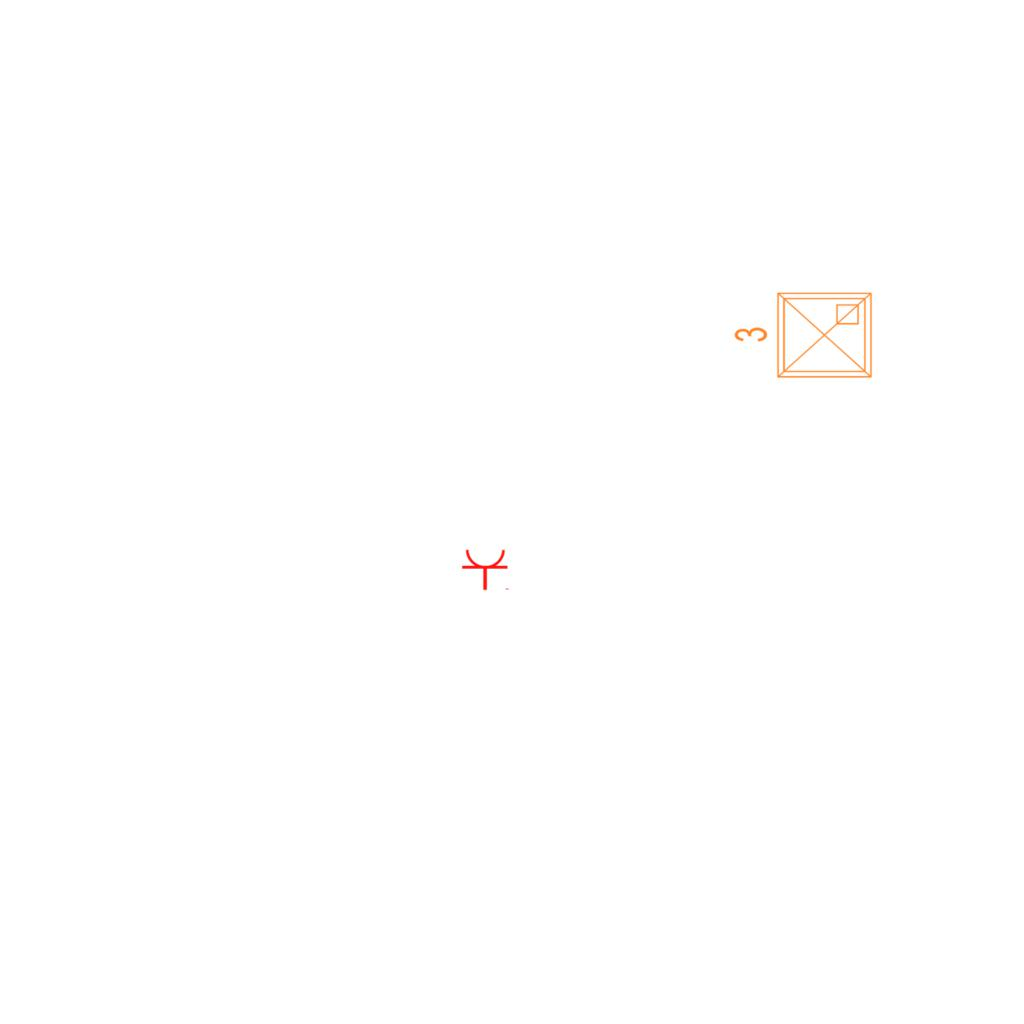Einbaudownlights_LED_Konferenzraeume: (729, 285, 879, 389)
Schukosteckdose_einfach: (461, 548, 511, 591)
